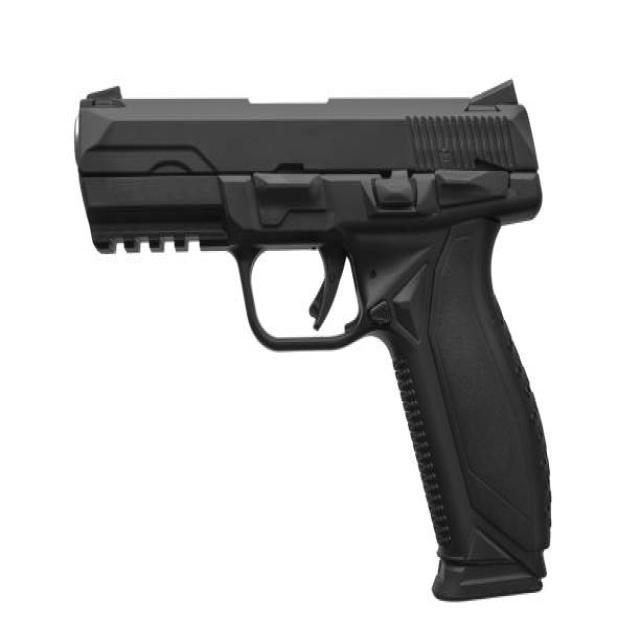pistol: (63, 76, 560, 610)
